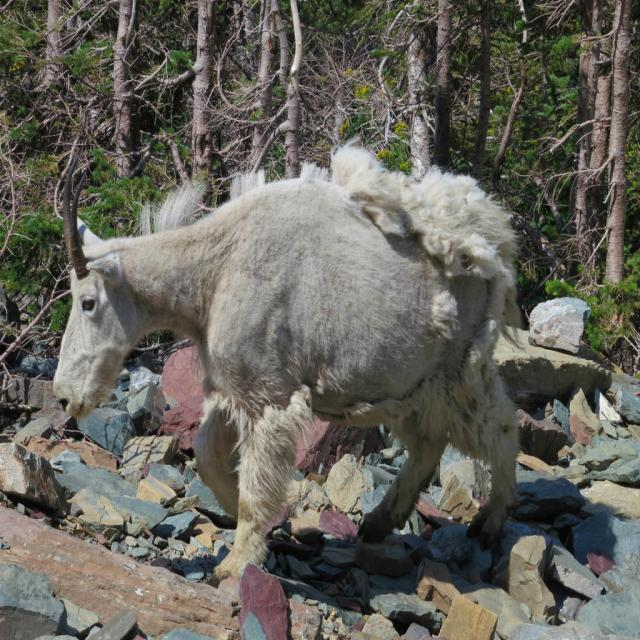Goat: (51, 139, 525, 582)
